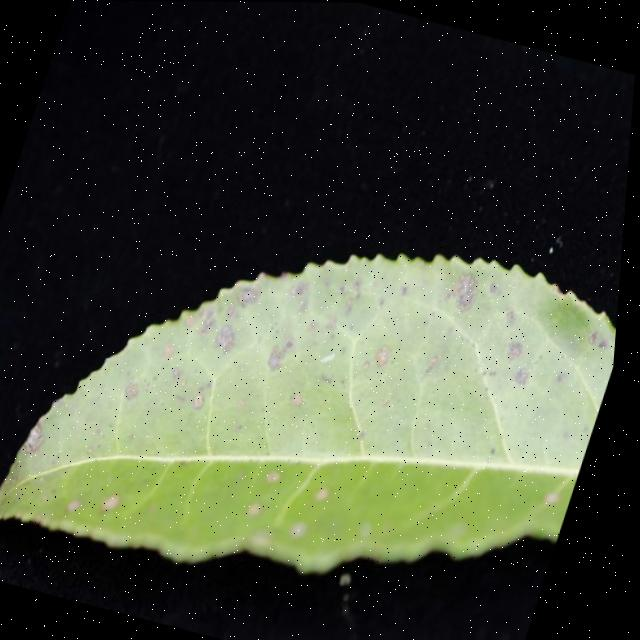Tea red rust: (5, 168, 625, 638)
